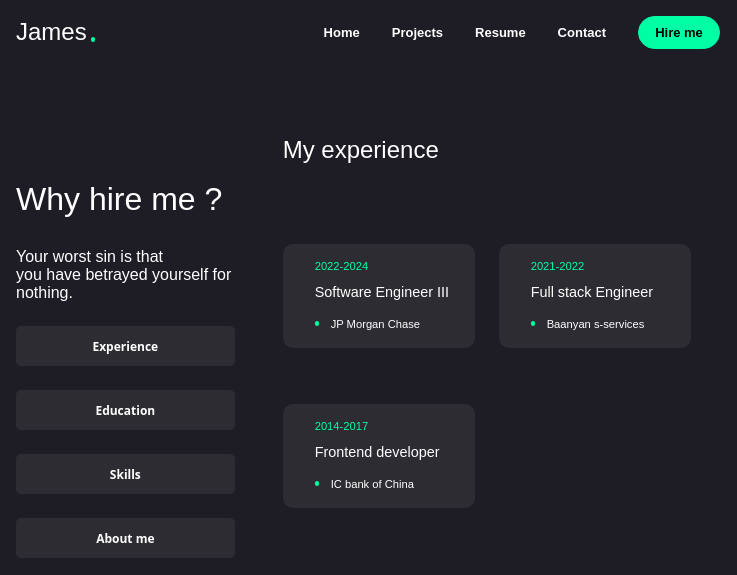
Test: Resume Component › renders Education section when Education button is clicked
Click the button "Education": click(125, 410) x1=16 y1=390 x2=235 y2=430
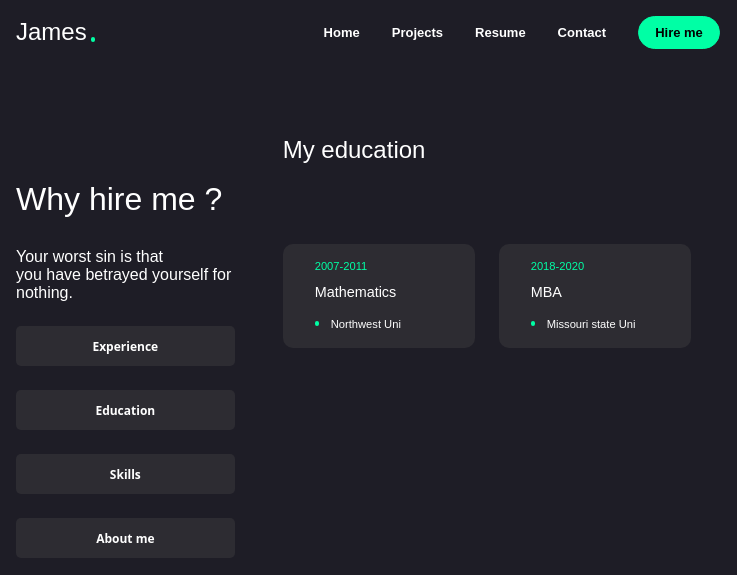
Result: the text "My education" is shown at x1=283 y1=136 x2=426 y2=163
Result: the text "Mathematics" is shown at x1=315 y1=284 x2=396 y2=300
